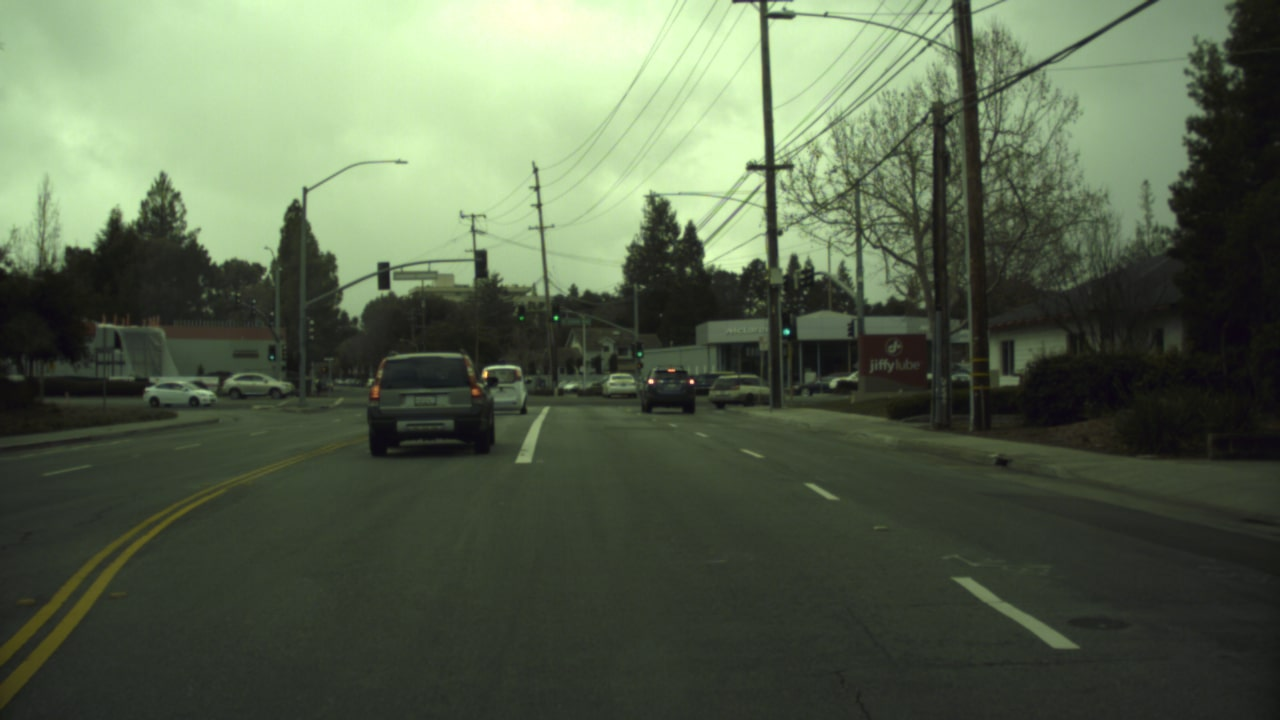signal: (777, 315, 791, 339), (549, 304, 561, 326), (515, 305, 527, 326), (631, 343, 643, 360)
